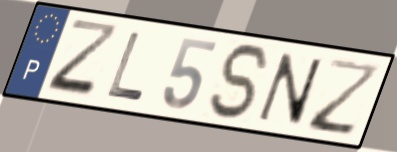5: (161, 34, 220, 112)
L: (103, 29, 146, 105)
N: (255, 50, 325, 129)
S: (208, 41, 275, 123)
Z: (43, 17, 124, 101), (305, 56, 384, 140)
